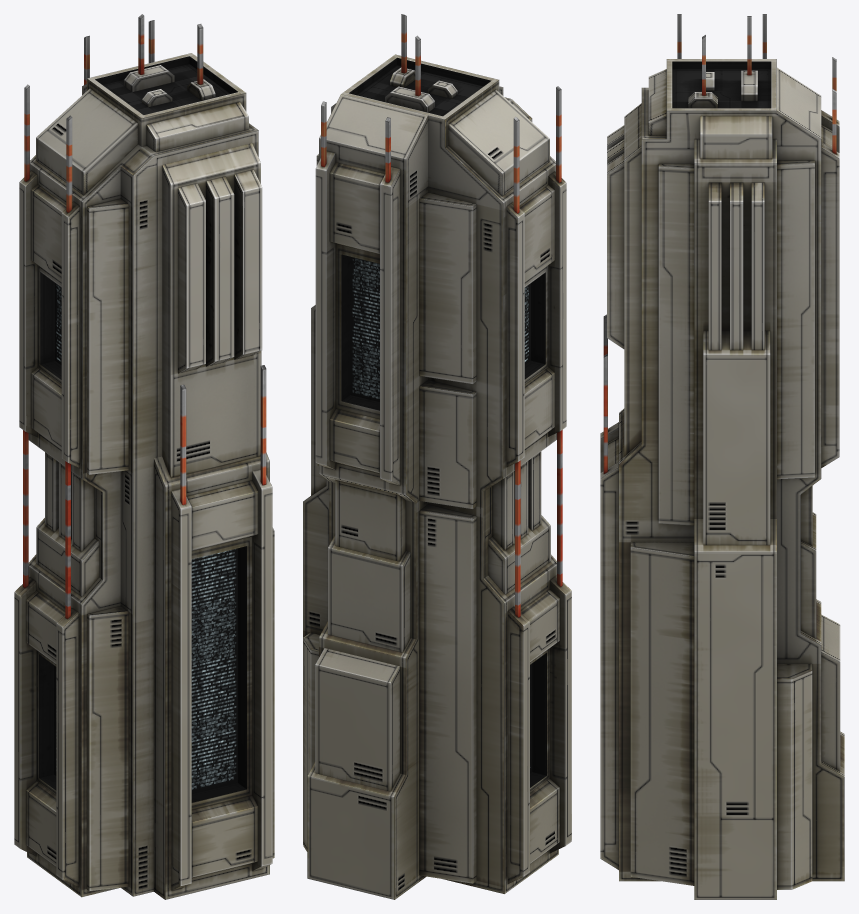
File: tall.obj
3 renders of one model, left to right at view 1: azimuth 30°, elevation 25°; view 2: azimuth 150°, elevation 25°; view 3: azimuth 270°, elevation 25°, orthographic.
Visible parts, largest first — view 1: sci_fi_city_structure_9; view 2: sci_fi_city_structure_9; view 3: sci_fi_city_structure_9.
Part boxes in pixels (left/top/right/bottom): sci_fi_city_structure_9: left=14, top=14, right=274, bottom=899; sci_fi_city_structure_9: left=303, top=14, right=571, bottom=899; sci_fi_city_structure_9: left=600, top=14, right=844, bottom=899.
Bounding box in the file's own units: 78.9 × 285 × 75.75.
Materials: 1 (1 with a texture image).
